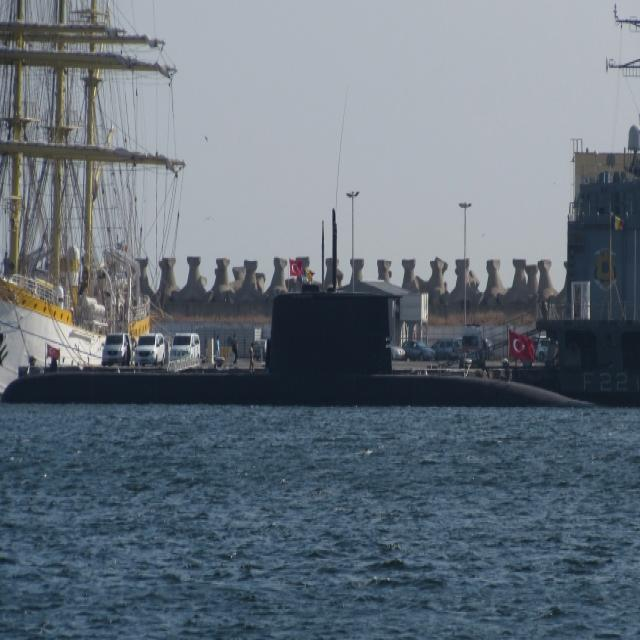submarine: (5, 290, 608, 408), (468, 323, 640, 404)
